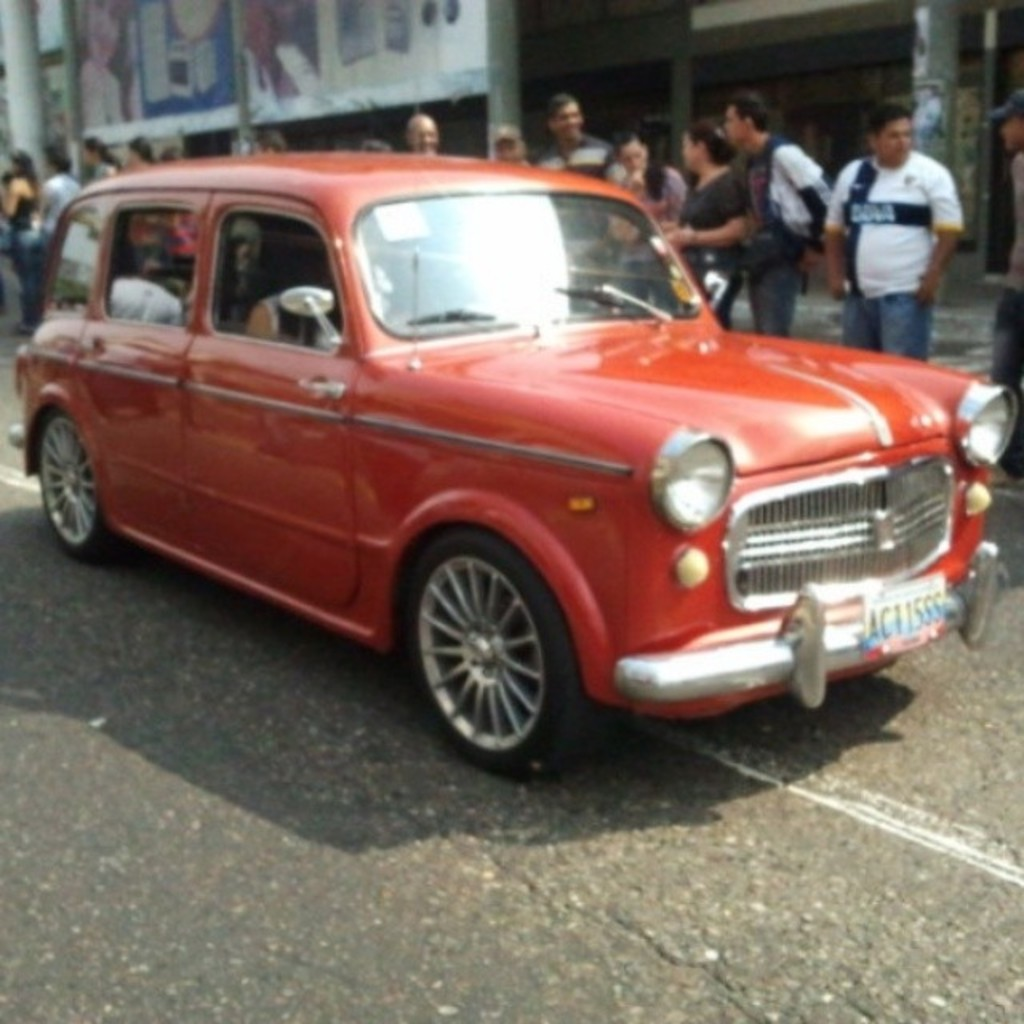mobil: (40, 151, 998, 782)
